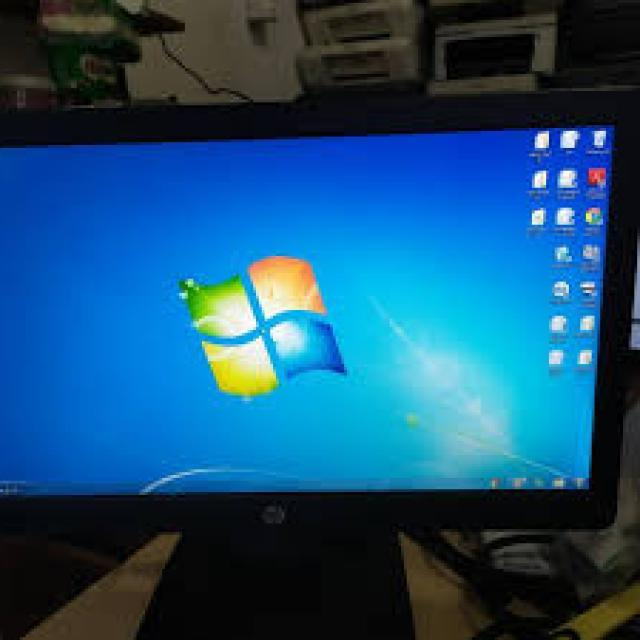monitor: (0, 74, 640, 640)
